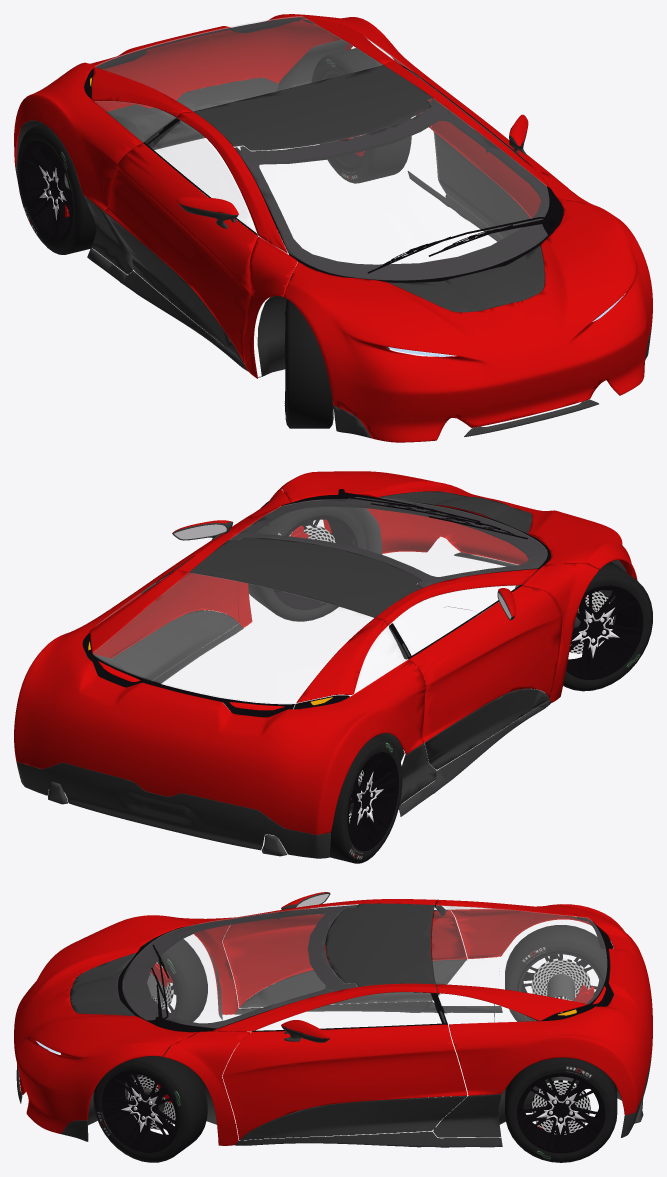
File: kleano-car.glb
3 renders of one model, top to bottom at view 1: azimuth 30°, elevation 25°; view 2: azimuth 150°, elevation 25°; view 3: azimuth 270°, elevation 25°, orthographic. The views are drawn at different scales.
Visible parts, largest first — view 1: BodyRearPanelsColor1, BodyWindshield, BodyRoofPanel, BodyWindshieldGasket, object 13, WheelFrontLRim, BodyUnderside; view 2: BodyRearPanelsColor1, BodyWindshield, BodyRoofPanel, WheelFrontLRim, BodyWindshieldGasket, object 13, BodyUnderside, WheelFrontLBrakeDisc, BodyDoorRMirror; view 3: BodyRearPanelsColor1, BodyWindshield, BodyRoofPanel, object 13, WheelFrontLRim, BodyWindshieldGasket, WheelFrontLBrakeDisc, BodyUnderside, WheelFrontLBrakePad.
Part boxes in pixels (x1,y1,x2,y2): BodyRearPanelsColor1: [14, 14, 652, 442]; BodyWindshield: [94, 16, 549, 280]; BodyRoofPanel: [15, 65, 651, 438]; BodyWindshieldGasket: [84, 17, 563, 282]; object 13: [17, 48, 600, 428]; WheelFrontLRim: [20, 69, 366, 414]; BodyUnderside: [16, 39, 544, 377]; BodyRearPanelsColor1: [14, 471, 637, 834]; BodyWindshield: [92, 497, 547, 703]; BodyRoofPanel: [16, 491, 550, 858]; WheelFrontLRim: [273, 515, 643, 851]; BodyWindshieldGasket: [82, 489, 550, 717]; object 13: [49, 492, 652, 863]; BodyUnderside: [48, 507, 626, 856]; WheelFrontLBrakeDisc: [289, 525, 613, 823]; BodyDoorRMirror: [174, 524, 511, 618]; BodyRearPanelsColor1: [14, 892, 652, 1145]; BodyWindshield: [122, 904, 606, 1030]; BodyRoofPanel: [16, 892, 652, 1147]; object 13: [93, 925, 617, 1162]; WheelFrontLRim: [102, 950, 605, 1153]; BodyWindshieldGasket: [118, 901, 613, 1032]; WheelFrontLBrakeDisc: [127, 958, 590, 1134]; BodyUnderside: [87, 942, 643, 1129]; WheelFrontLBrakePad: [150, 963, 594, 1129].
Bounding box in the file's own units: 2.54 × 1.15 × 4.36.
Materials: 15 (4 with a texture image).
